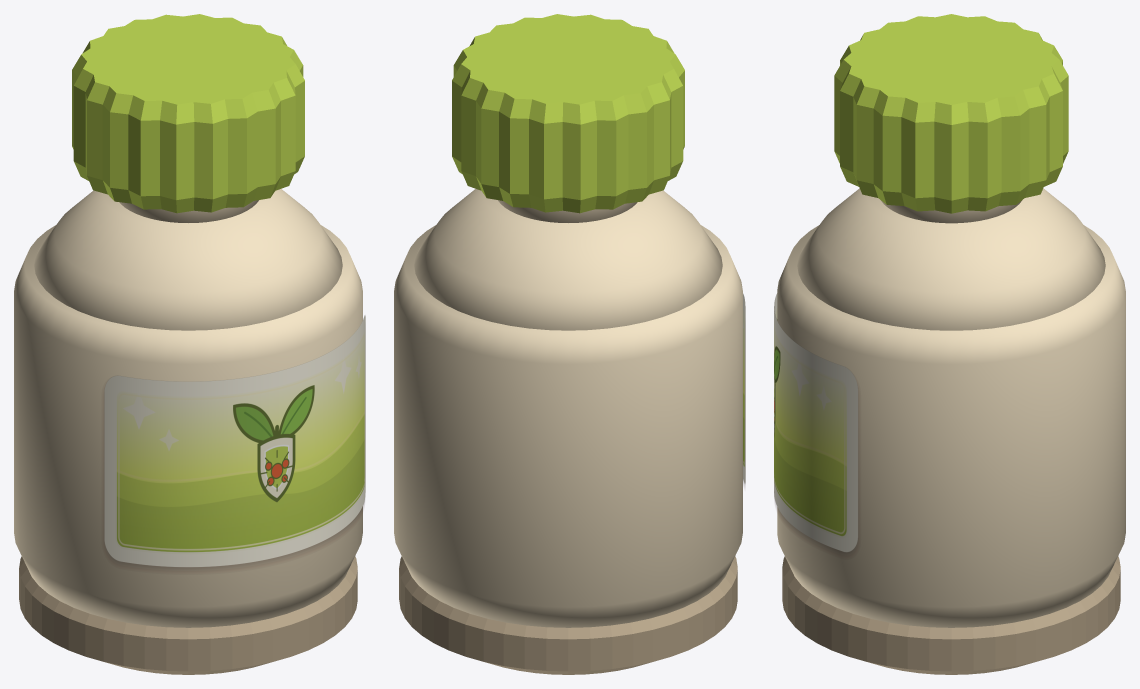
File: LiquidPreparationBottleDiseaseControl.glb
3 views of the same model, side by side, from view 1: azimuth 30°, elevation 25°; view 2: azimuth 150°, elevation 25°; view 3: azimuth 270°, elevation 25° (orthographic).
Parts seen in each view (by area): view 1: LiquidPreparationBottleDiseaseControl_Body, LiquidPreparationBottleDiseaseControl_Label, LiquidPreparationBottleDiseaseControl_Cap, LiquidPreparationBottleDiseaseControl_Shoulder, LiquidPreparationBottleDiseaseControl_Base_Rim, LiquidPreparationBottleDiseaseControl_Neck; view 2: LiquidPreparationBottleDiseaseControl_Body, LiquidPreparationBottleDiseaseControl_Cap, LiquidPreparationBottleDiseaseControl_Shoulder, LiquidPreparationBottleDiseaseControl_Base_Rim, LiquidPreparationBottleDiseaseControl_Neck, LiquidPreparationBottleDiseaseControl_Label; view 3: LiquidPreparationBottleDiseaseControl_Body, LiquidPreparationBottleDiseaseControl_Cap, LiquidPreparationBottleDiseaseControl_Shoulder, LiquidPreparationBottleDiseaseControl_Label, LiquidPreparationBottleDiseaseControl_Base_Rim, LiquidPreparationBottleDiseaseControl_Neck.
Part boxes in pixels (bbox=[...]): LiquidPreparationBottleDiseaseControl_Body: bbox=[14, 225, 362, 627]; LiquidPreparationBottleDiseaseControl_Label: bbox=[104, 315, 365, 570]; LiquidPreparationBottleDiseaseControl_Cap: bbox=[72, 14, 304, 213]; LiquidPreparationBottleDiseaseControl_Shoulder: bbox=[34, 189, 342, 330]; LiquidPreparationBottleDiseaseControl_Base_Rim: bbox=[19, 556, 357, 674]; LiquidPreparationBottleDiseaseControl_Neck: bbox=[119, 200, 258, 222]; LiquidPreparationBottleDiseaseControl_Body: bbox=[394, 225, 742, 627]; LiquidPreparationBottleDiseaseControl_Cap: bbox=[452, 14, 684, 213]; LiquidPreparationBottleDiseaseControl_Shoulder: bbox=[414, 189, 722, 330]; LiquidPreparationBottleDiseaseControl_Base_Rim: bbox=[399, 556, 737, 674]; LiquidPreparationBottleDiseaseControl_Neck: bbox=[498, 200, 637, 222]; LiquidPreparationBottleDiseaseControl_Label: bbox=[743, 293, 745, 485]; LiquidPreparationBottleDiseaseControl_Body: bbox=[777, 225, 1125, 627]; LiquidPreparationBottleDiseaseControl_Cap: bbox=[834, 14, 1068, 213]; LiquidPreparationBottleDiseaseControl_Shoulder: bbox=[797, 188, 1105, 330]; LiquidPreparationBottleDiseaseControl_Label: bbox=[774, 293, 858, 554]; LiquidPreparationBottleDiseaseControl_Base_Rim: bbox=[782, 556, 1120, 674]; LiquidPreparationBottleDiseaseControl_Neck: bbox=[881, 200, 1021, 223].
Size of the model in its own units: 0.69 by 1.23 by 0.696.
5 materials, 1 textured.
